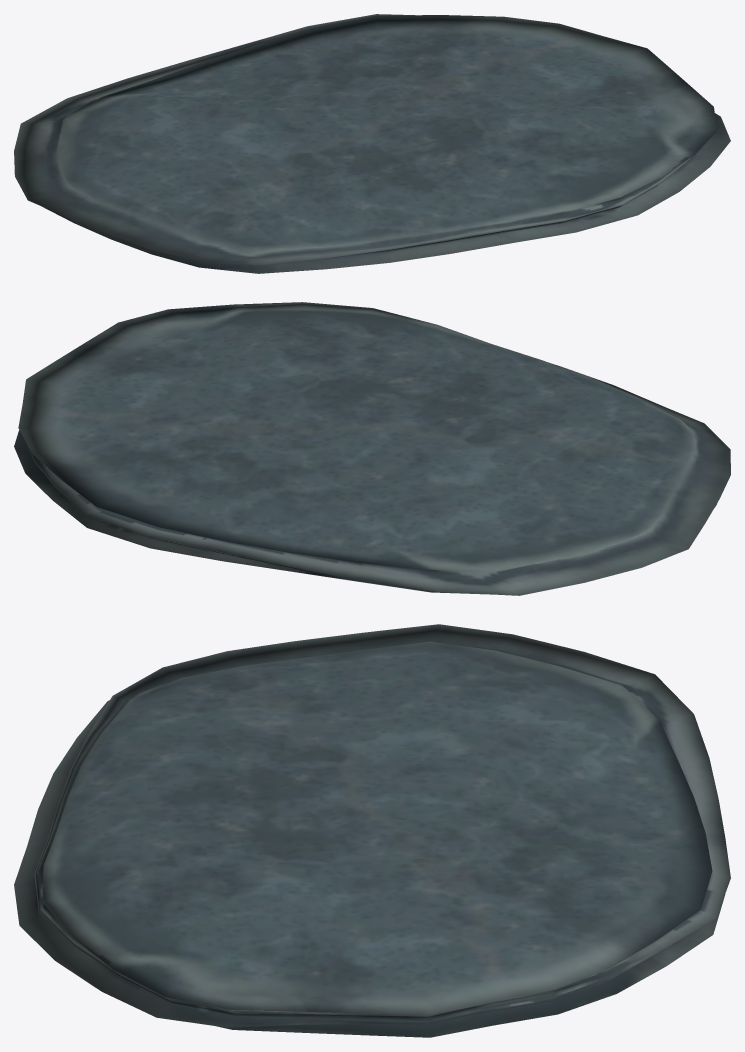
Rendered from thin_shale_01.glb.
The picture shows the model from 3 angles, top to bottom: view 1: azimuth 30°, elevation 25°; view 2: azimuth 150°, elevation 25°; view 3: azimuth 270°, elevation 25°; orthographic projection. The views are drawn at different scales.
Visible parts, largest first — view 1: thin_shale_01; view 2: thin_shale_01; view 3: thin_shale_01.
Boxes of the visible parts, x1=… form: thin_shale_01: x1=14, y1=14, x2=730, y2=273; thin_shale_01: x1=14, y1=302, x2=730, y2=595; thin_shale_01: x1=14, y1=624, x2=730, y2=1037.
Size of the model in its own units: 0.0842 by 0.00517 by 0.0643.
Materials: 1 (1 with a texture image).
